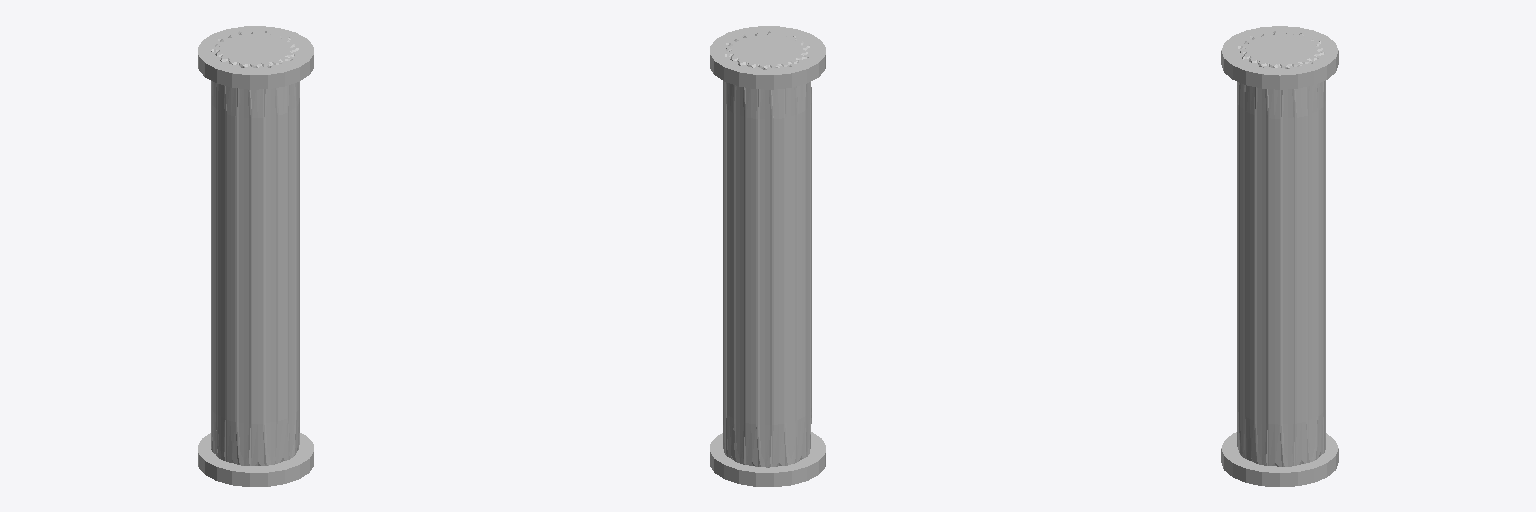
File: Pillar.obj
3 renders of one model, left to right at view 1: azimuth 30°, elevation 25°; view 2: azimuth 150°, elevation 25°; view 3: azimuth 270°, elevation 25°, orthographic.
Parts seen in each view (by area): view 1: pCylinder25 PillarGroup_3; view 2: pCylinder25 PillarGroup_3; view 3: pCylinder25 PillarGroup_3.
Boxes of the visible parts, x1=… form: pCylinder25 PillarGroup_3: x1=198, y1=26, x2=313, y2=486; pCylinder25 PillarGroup_3: x1=710, y1=26, x2=825, y2=486; pCylinder25 PillarGroup_3: x1=1221, y1=26, x2=1338, y2=486.
Size of the model in its own units: 2.61 by 10.13 by 2.61.